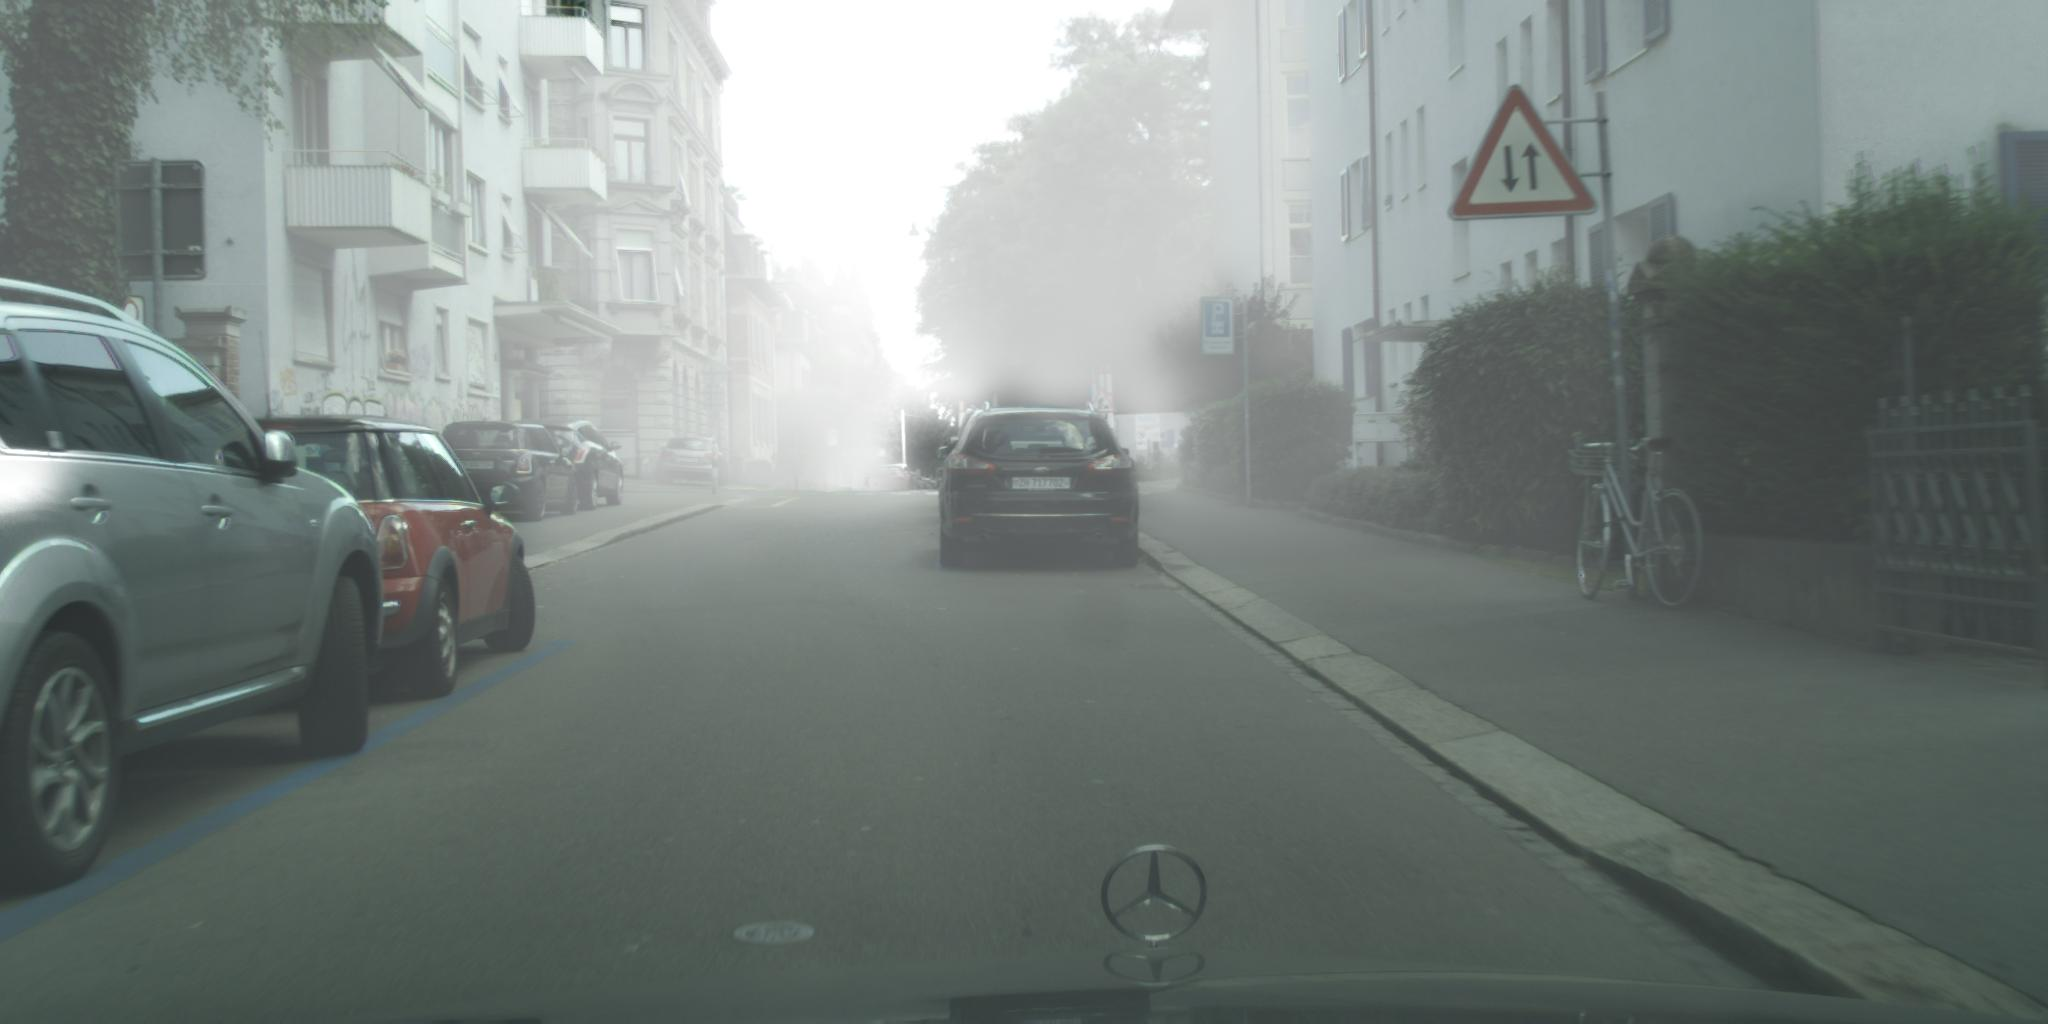bicycle: (1569, 438, 1703, 607)
car: (1, 280, 381, 897), (251, 417, 536, 699), (938, 409, 1144, 572), (439, 421, 579, 524), (512, 419, 627, 512), (657, 439, 728, 488), (871, 465, 908, 492), (905, 469, 916, 492)
